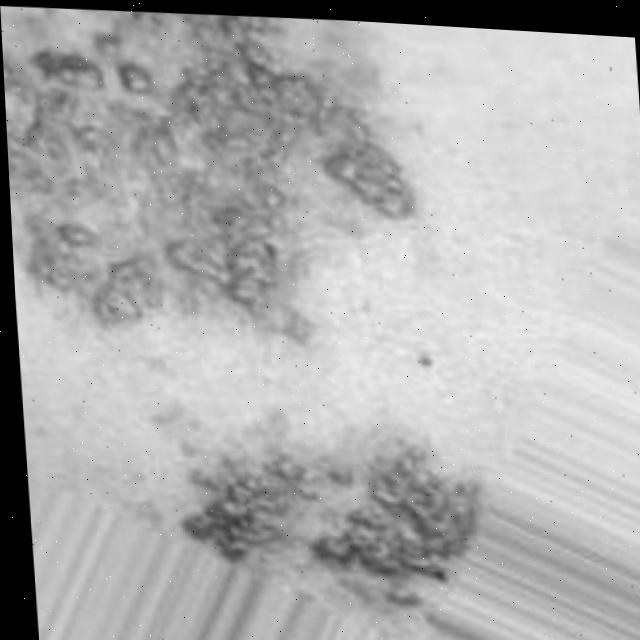Shingles: (0, 0, 497, 614)
